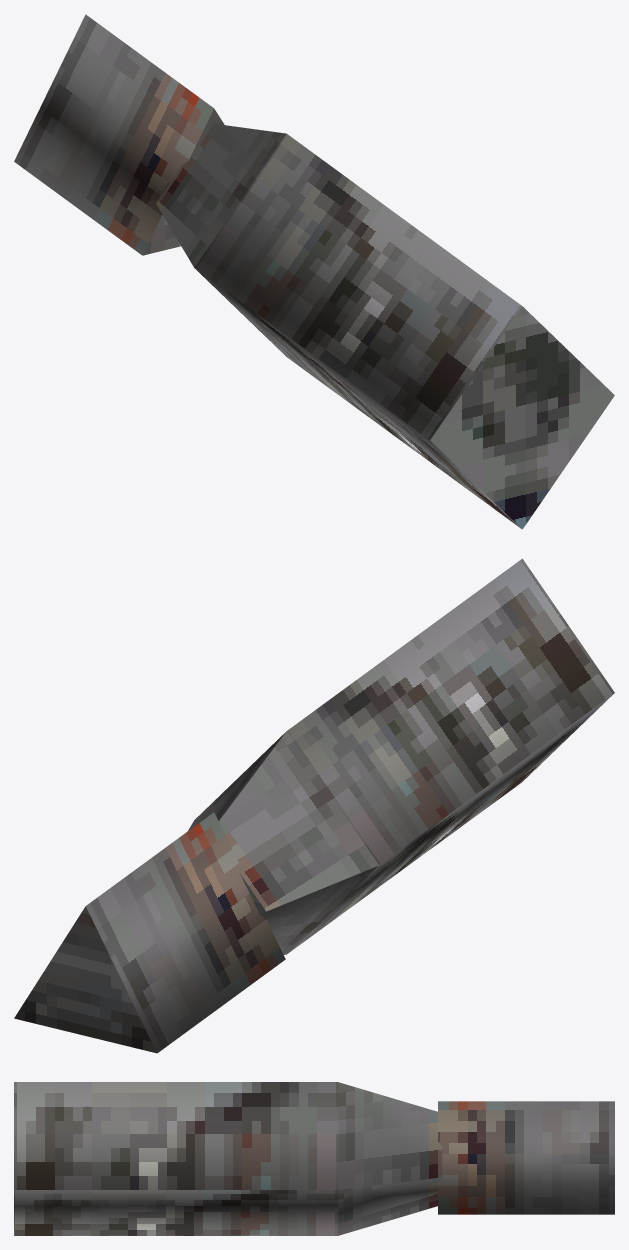
The model's file is LOD3-UVFlip.obj.
3 renders of one model, top to bottom at view 1: azimuth 30°, elevation 25°; view 2: azimuth 150°, elevation 25°; view 3: azimuth 270°, elevation 25°, orthographic. The views are drawn at different scales.
Parts seen in each view (by area): view 1: hw2Shader2; view 2: hw2Shader2; view 3: hw2Shader2.
Part boxes in pixels (left/top/right/bottom): hw2Shader2: left=14, top=14, right=614, bottom=529; hw2Shader2: left=14, top=558, right=614, bottom=1053; hw2Shader2: left=14, top=1082, right=614, bottom=1235.
Bounding box in the file's own units: 4.18 × 4.82 × 17.09.
